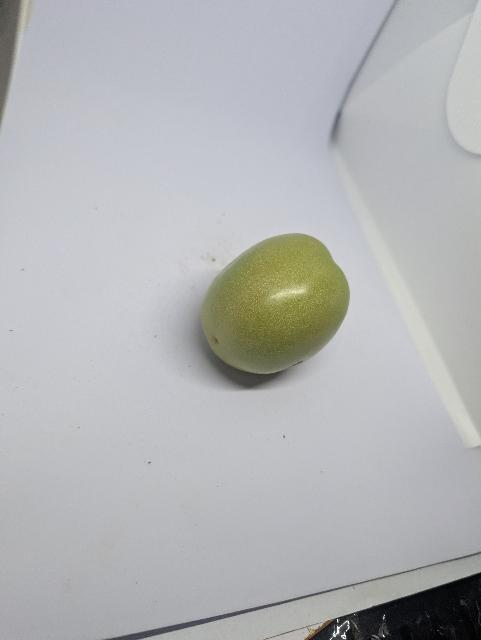green: (191, 209, 363, 407)
